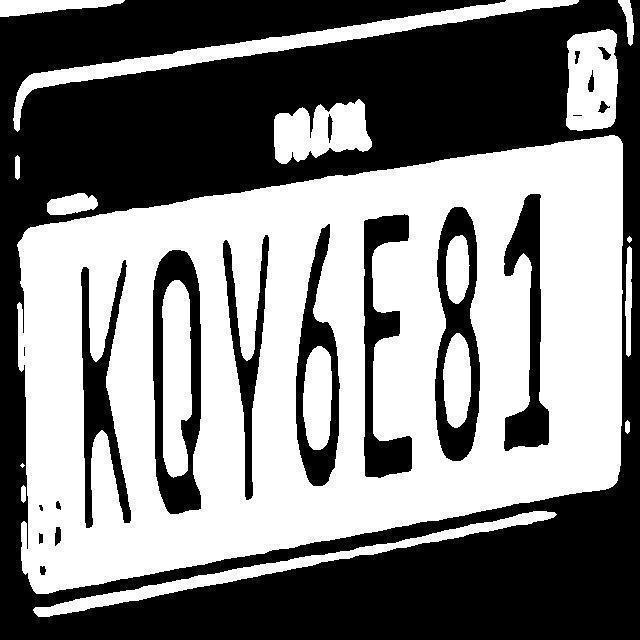1: (496, 189, 554, 460)
6: (289, 219, 352, 493)
8: (431, 202, 486, 464)
e: (356, 210, 424, 482)
k: (75, 256, 134, 531)
q: (148, 245, 208, 520)
y: (214, 233, 277, 504)
